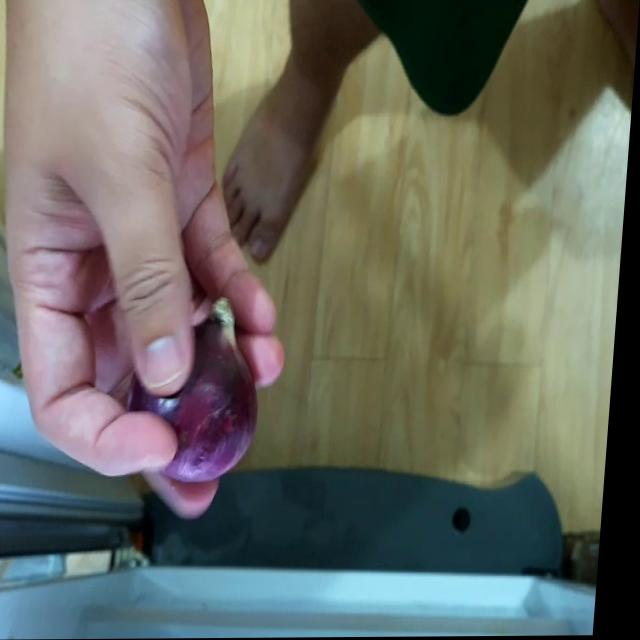onion: (135, 316, 266, 475)
